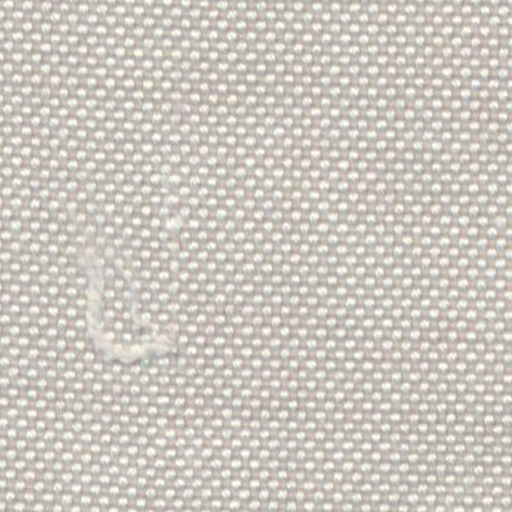DuanSha: (72, 238, 194, 375)
